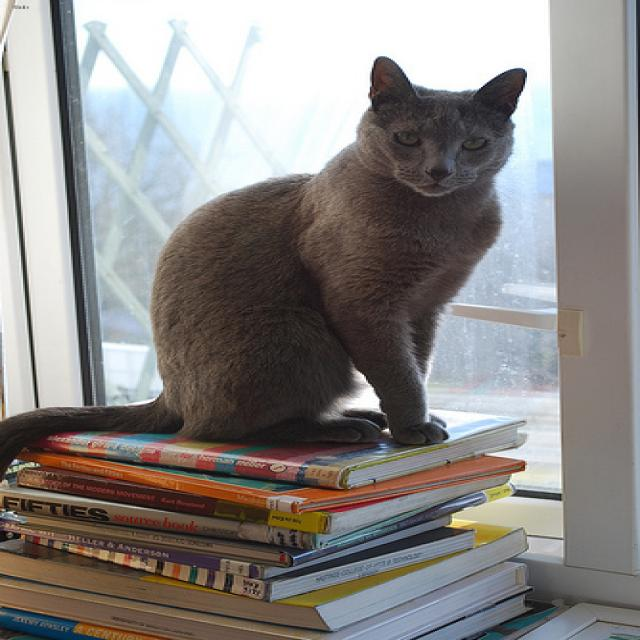cat: (366, 55, 525, 195)
